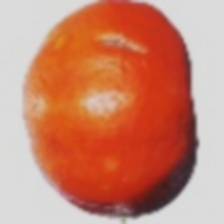tangerine: (40, 5, 189, 182)
